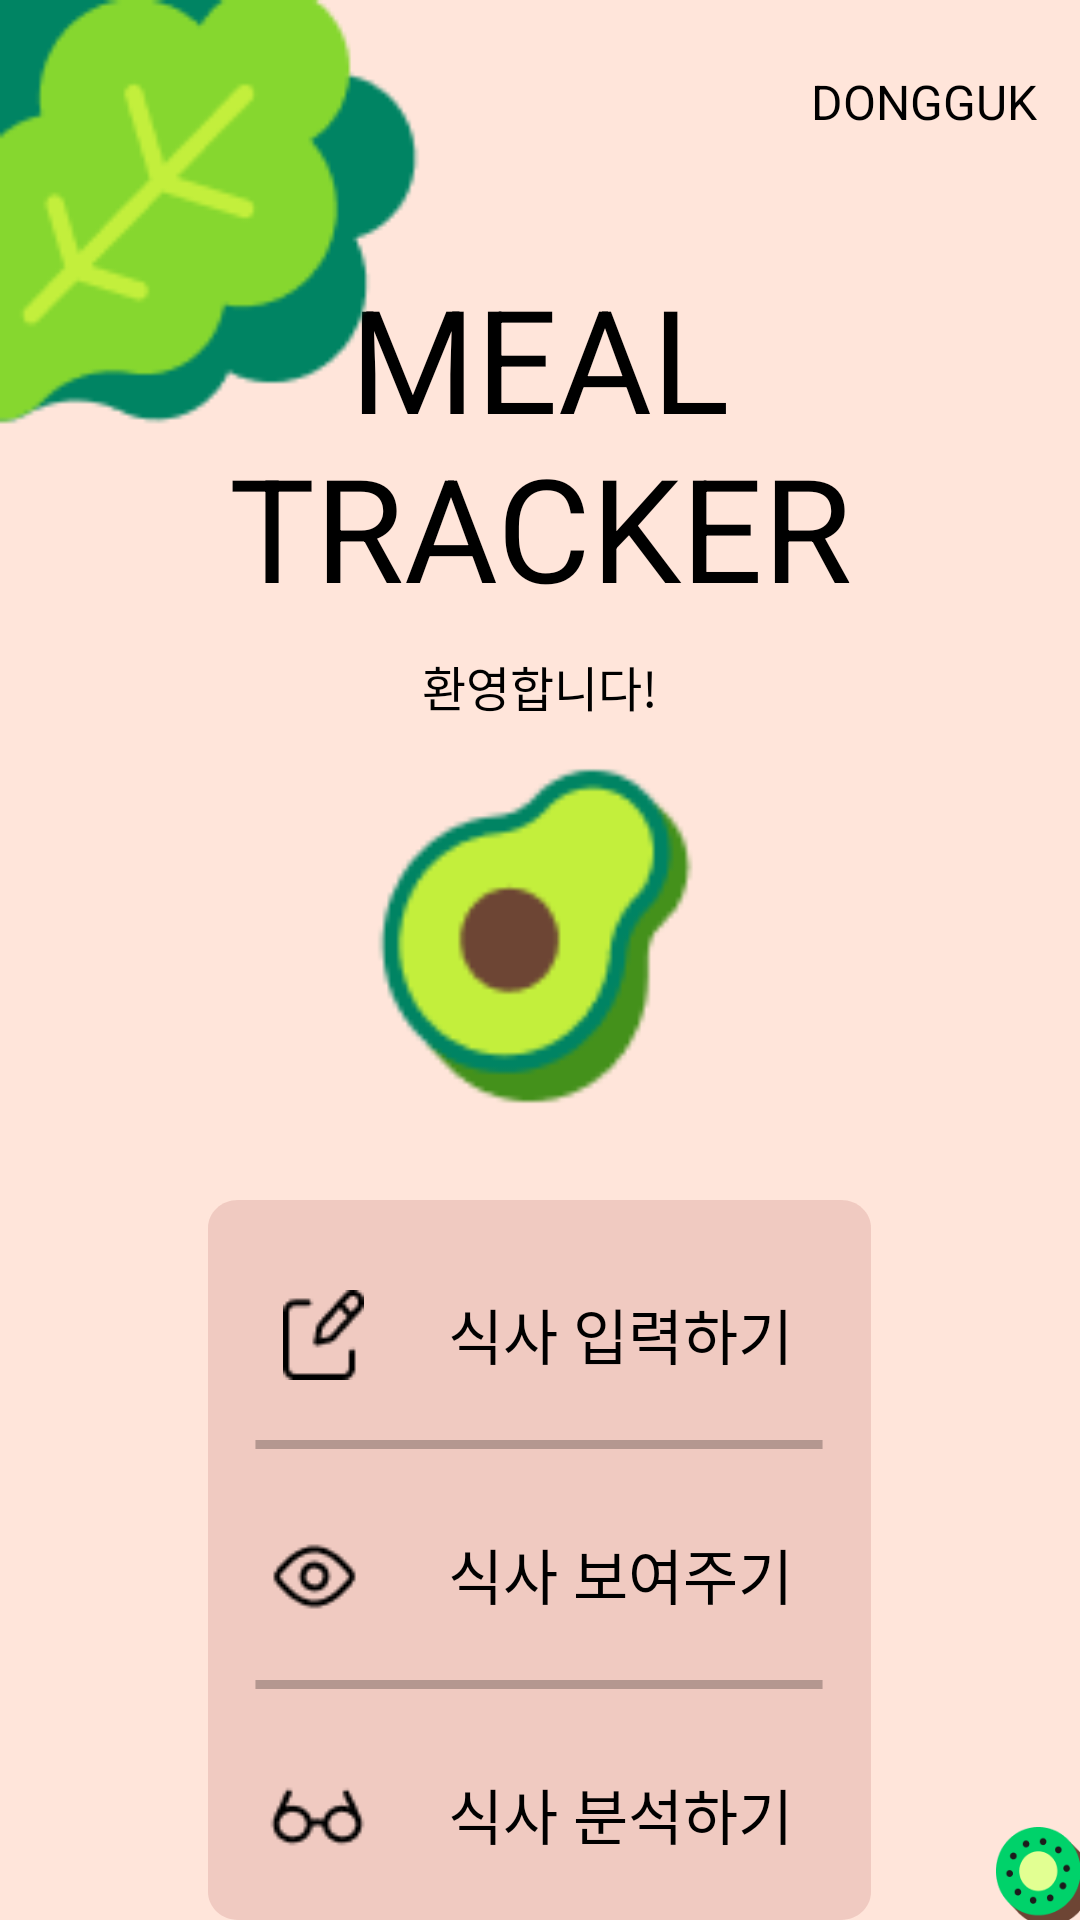

Icons on this 1080 x 1920 Android screen, each with the point to tap as [x,y]:
avocado: [535,936]
eye: [314,1576]
glasses: [317,1816]
kiwi: [1038,1873]
write: [323,1335]
